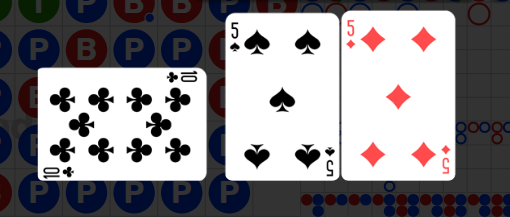10C: (42, 164, 77, 179)
5D: (440, 143, 452, 175)
5S: (323, 145, 336, 177)
